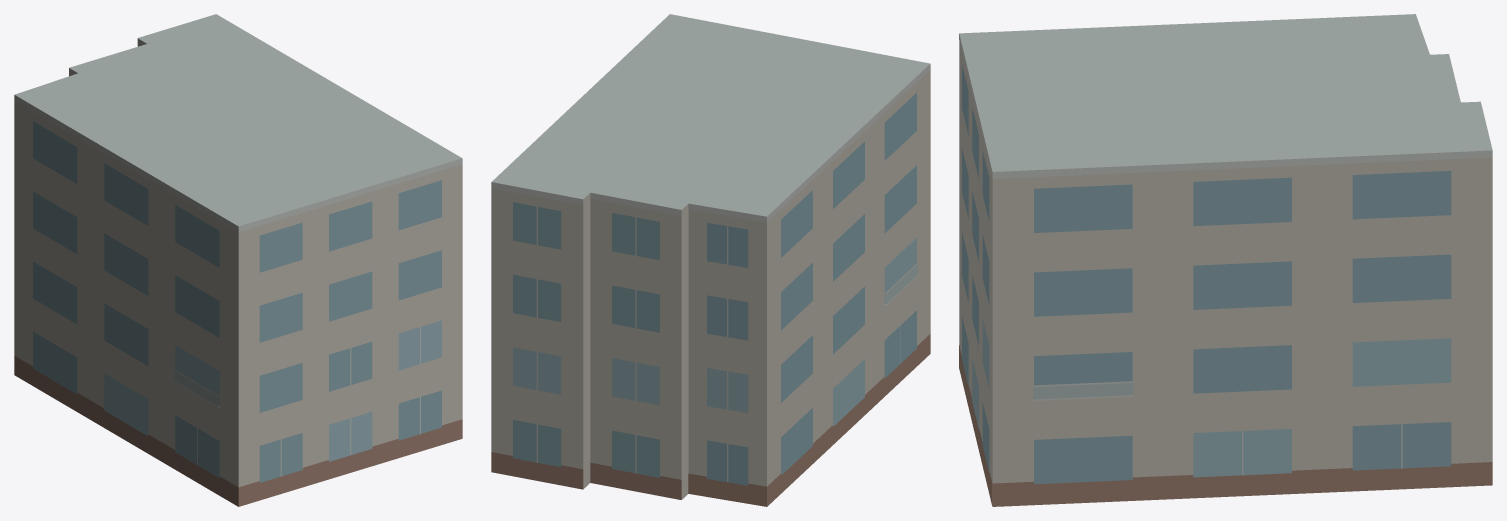
The model's file is survey-upis-32662904.glb.
The picture shows the model from 3 angles, left to right: view 1: azimuth 30°, elevation 25°; view 2: azimuth 150°, elevation 25°; view 3: azimuth 270°, elevation 25°; orthographic projection. The views are drawn at different scales.
Visible parts, largest first — view 1: survey-upis-32662904.tmp; view 2: survey-upis-32662904.tmp; view 3: survey-upis-32662904.tmp.
Part boxes in pixels (left/top/right/bottom): survey-upis-32662904.tmp: left=14, top=14, right=462, bottom=506; survey-upis-32662904.tmp: left=491, top=14, right=930, bottom=506; survey-upis-32662904.tmp: left=959, top=14, right=1492, bottom=506.
Size of the model in its own units: 11.84 by 11.7 by 16.9.
